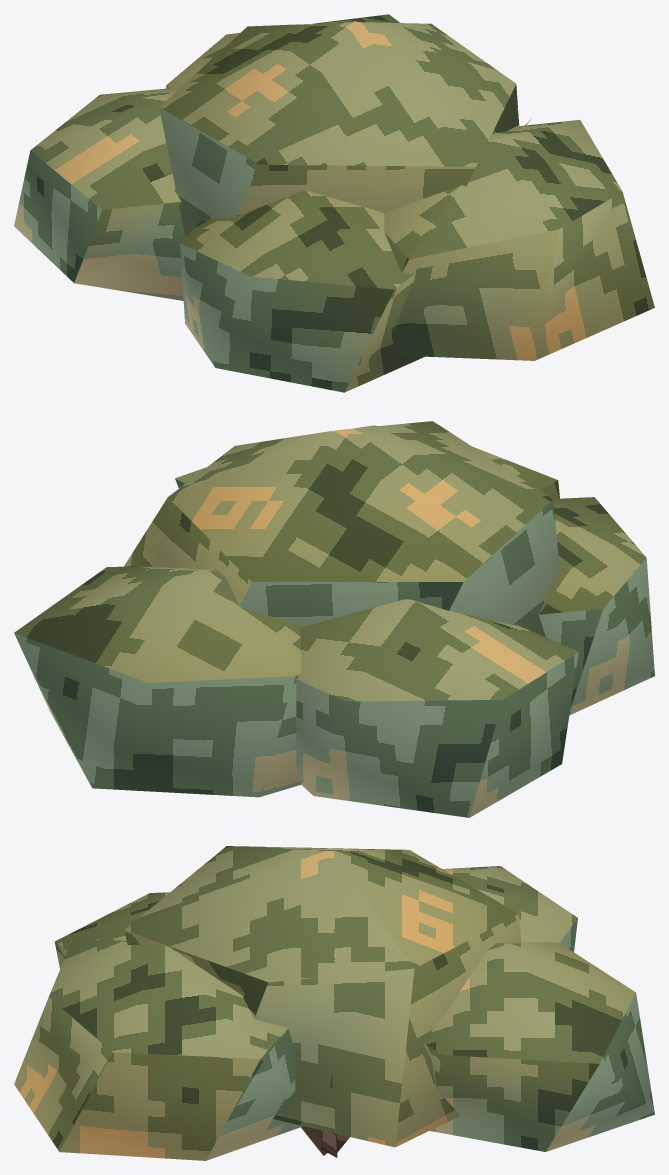
Rendered from wland.scrub__big.glb.
3 views of the same model, one above another, from view 1: azimuth 30°, elevation 25°; view 2: azimuth 150°, elevation 25°; view 3: azimuth 270°, elevation 25° (orthographic). The views are drawn at different scales.
Visible parts, largest first — view 1: kit_foliage; view 2: kit_foliage; view 3: kit_foliage, kit_stems.
Part boxes in pixels (<box>): kit_foliage: <box>14,14,654,392</box>; kit_foliage: <box>14,421,654,817</box>; kit_foliage: <box>14,846,654,1160</box>; kit_stems: <box>301,1075,349,1157</box>.
Bounding box in the file's own units: 1.41 × 0.9263 × 1.77.
2 materials, 2 textured.
